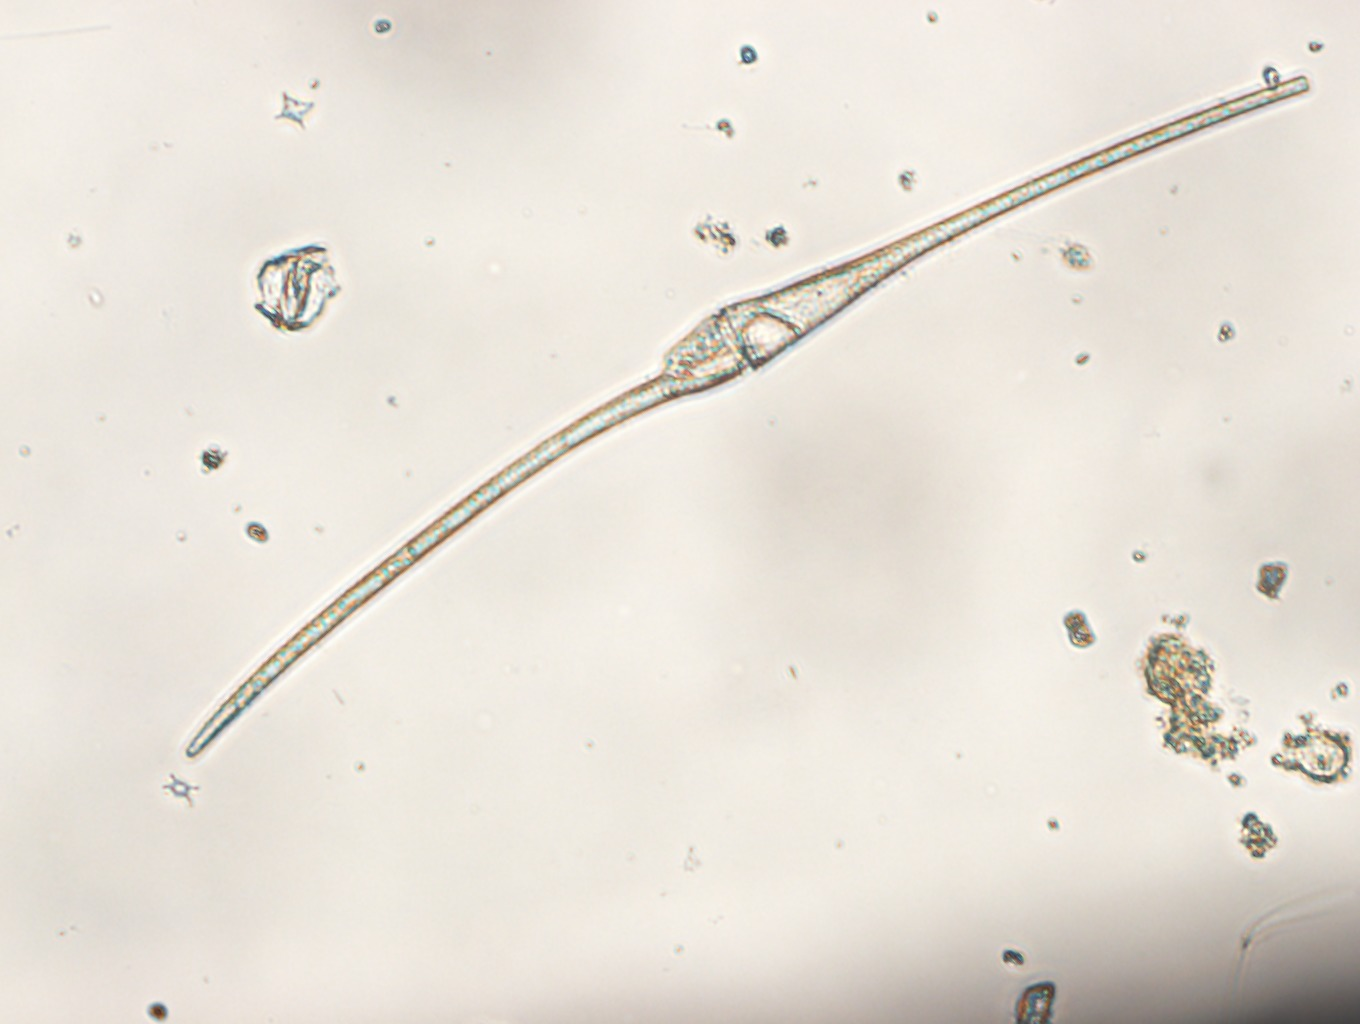ceratium fusus: (183, 72, 1311, 759)
